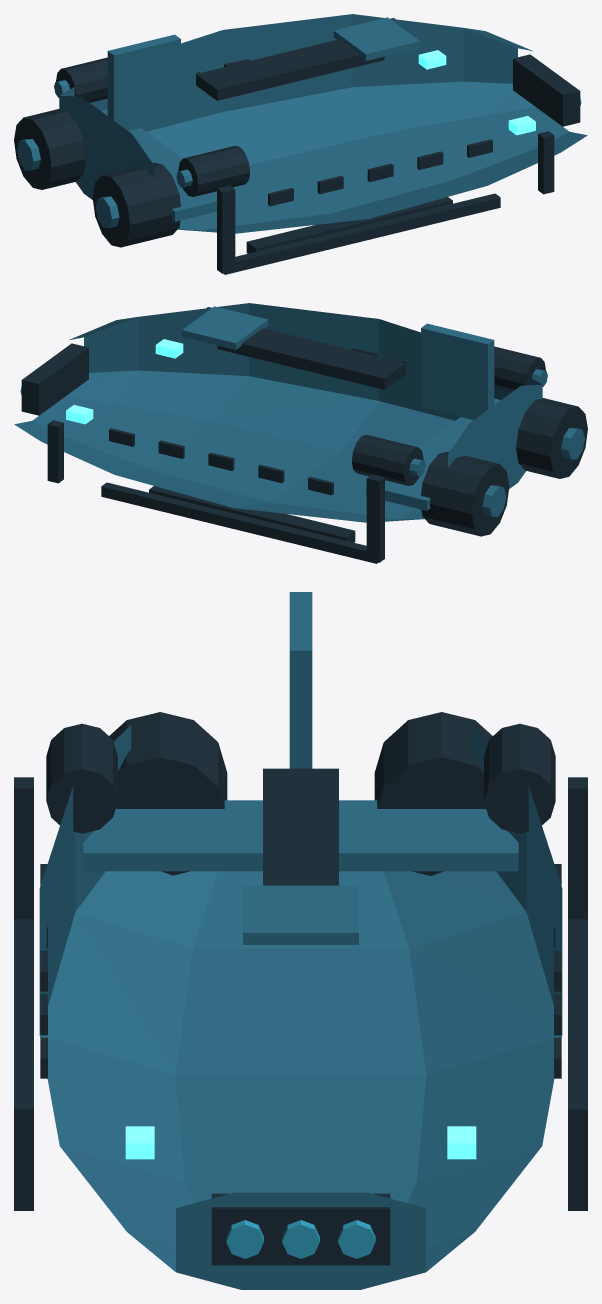
Rendered from industrial-deep-sea-inspection-rov.glb.
3 renders of one model, top to bottom at view 1: azimuth 30°, elevation 25°; view 2: azimuth 150°, elevation 25°; view 3: azimuth 270°, elevation 25°, orthographic. The views are drawn at different scales.
Parts seen in each view (by area): view 1: Underwater Detector; view 2: Underwater Detector; view 3: Underwater Detector.
Boxes of the visible parts, <box> form: Underwater Detector: <box>14,14,587,274</box>; Underwater Detector: <box>14,303,587,563</box>; Underwater Detector: <box>14,592,587,1289</box>.
Size of the model in its own units: 4.59 by 1.68 by 2.57.
